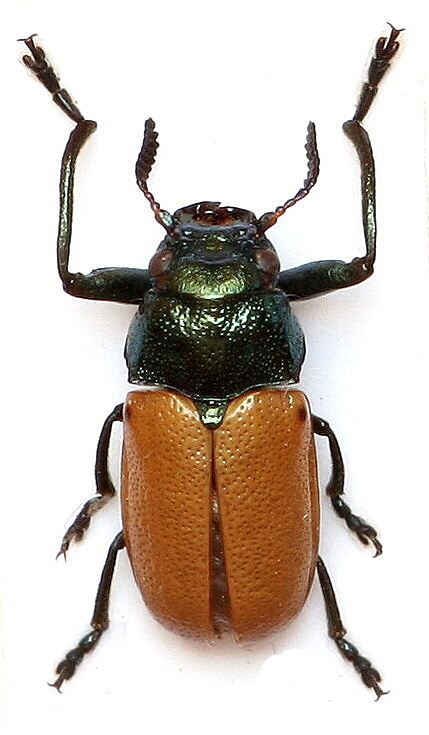Labidostomis_longimana: (1, 29, 419, 722)
